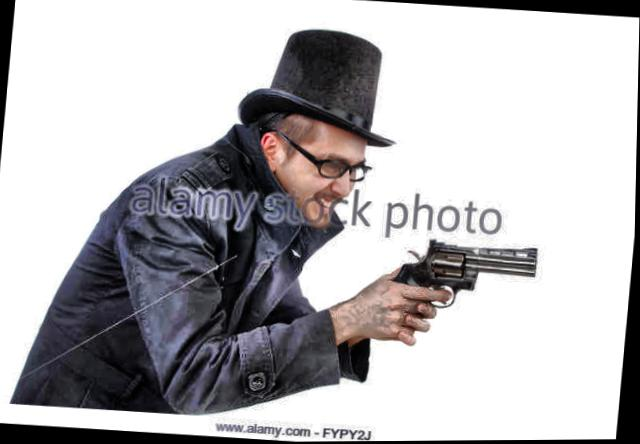pistol: (382, 234, 541, 313)
